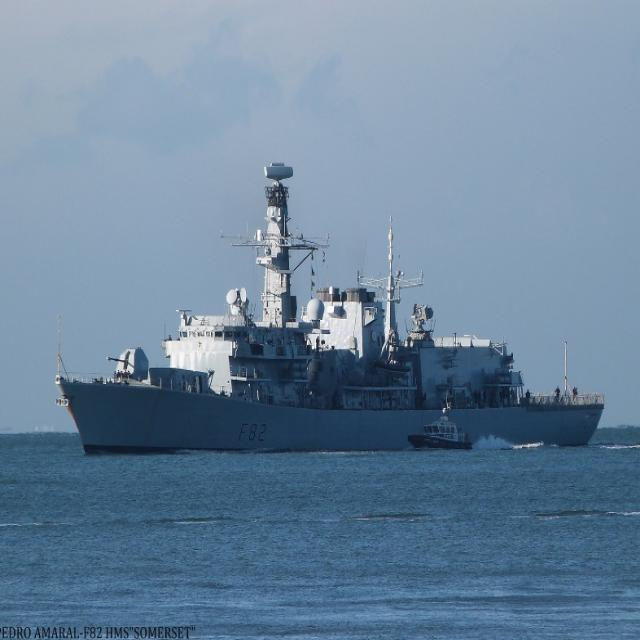Fragata: (56, 157, 609, 456)
